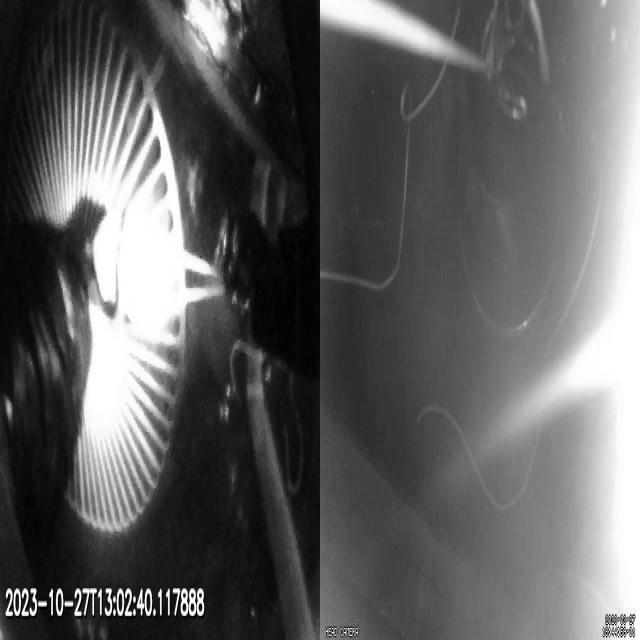head: (100, 202, 173, 328)
